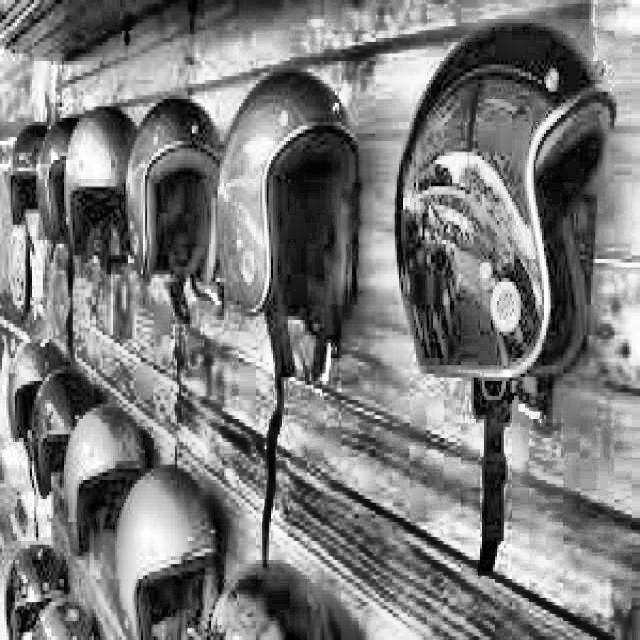Helmet: (400, 13, 606, 421), (210, 70, 379, 355), (117, 448, 225, 640), (129, 87, 221, 283), (72, 401, 149, 542), (63, 104, 135, 248)
